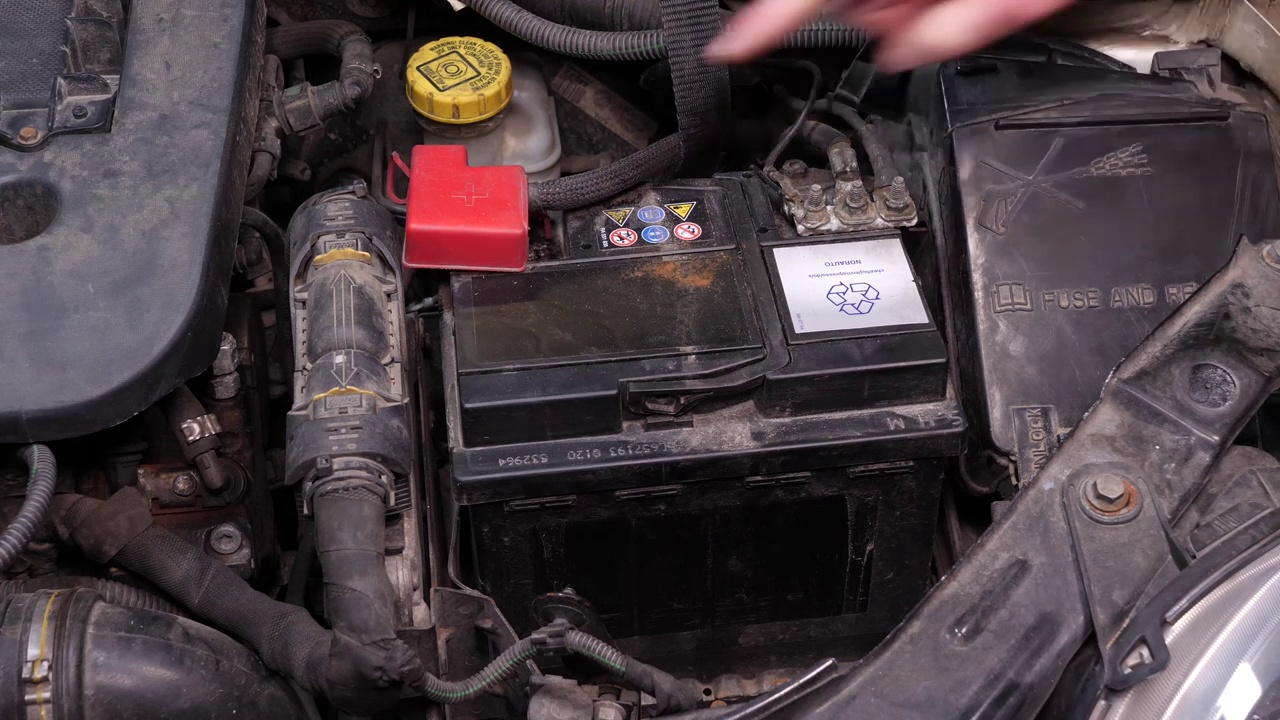battery: (385, 131, 927, 412)
neg_connected: (747, 153, 936, 236)
pos_connected: (400, 154, 536, 279)
